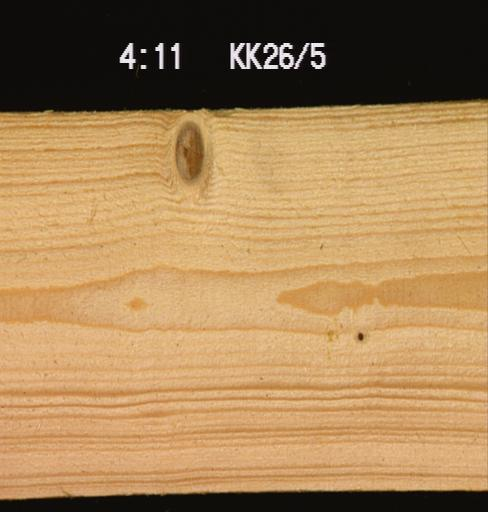small_knot: (351, 327, 367, 344)
sound_knot: (171, 118, 206, 183)
